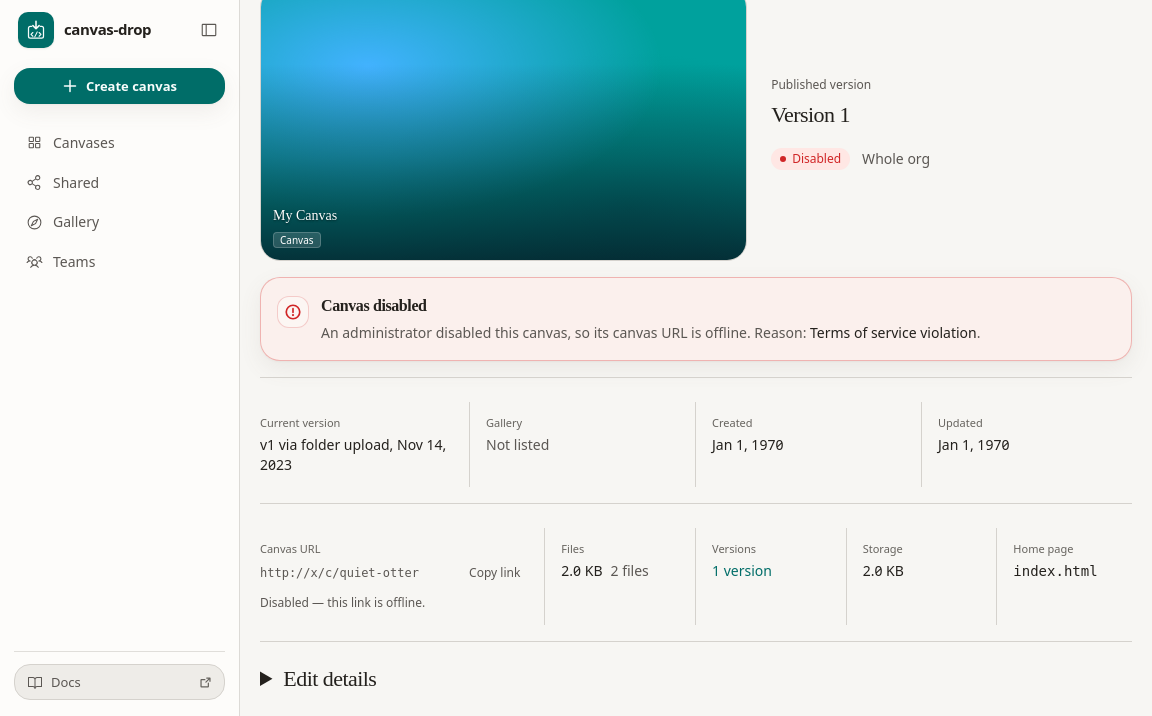
canvas Overview tab › keeps the disabled state explicit
The width and height of the screenshot is (1152, 716).
(page scrolled)
Expected: the heading "Canvas disabled" is shown, [321, 296, 427, 314]
Step 1. Click the heading "Edit details" → (330, 678), box [283, 666, 376, 691]
(page scrolled)
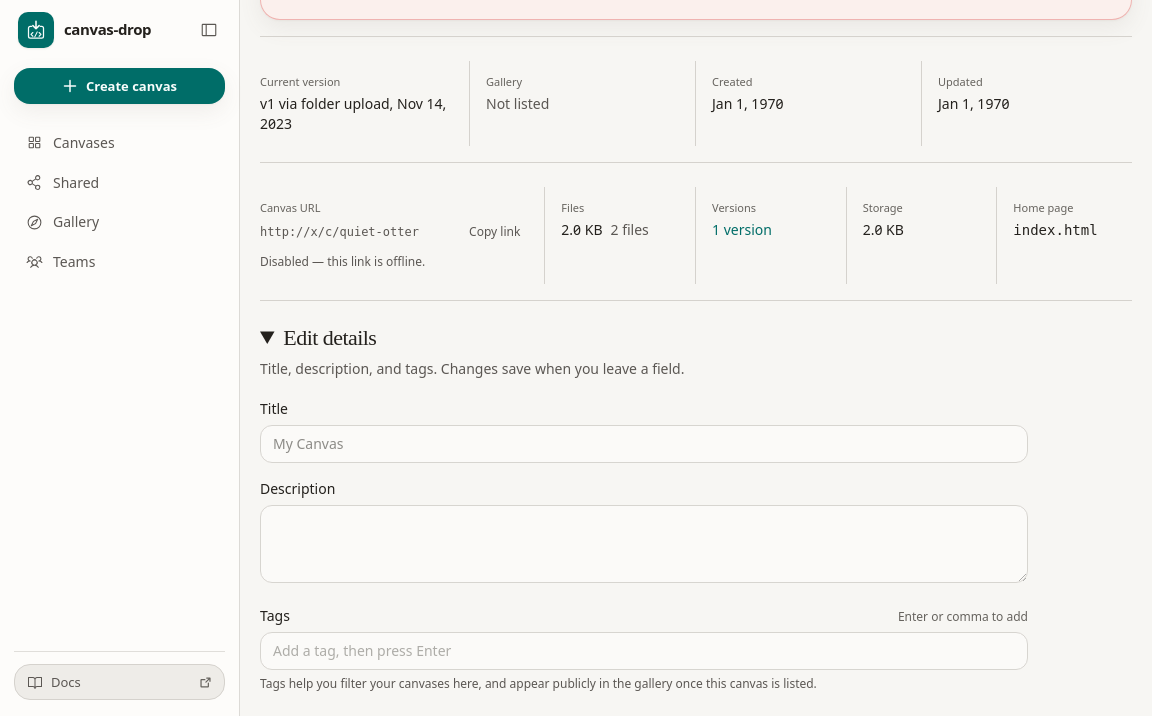
Expected: the field labelled "Title" is disabled, [260, 425, 1028, 463]
